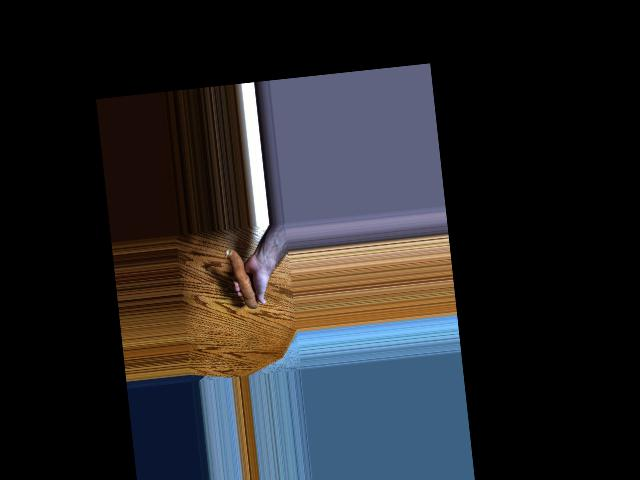sweet_potato: (235, 246, 258, 311)
